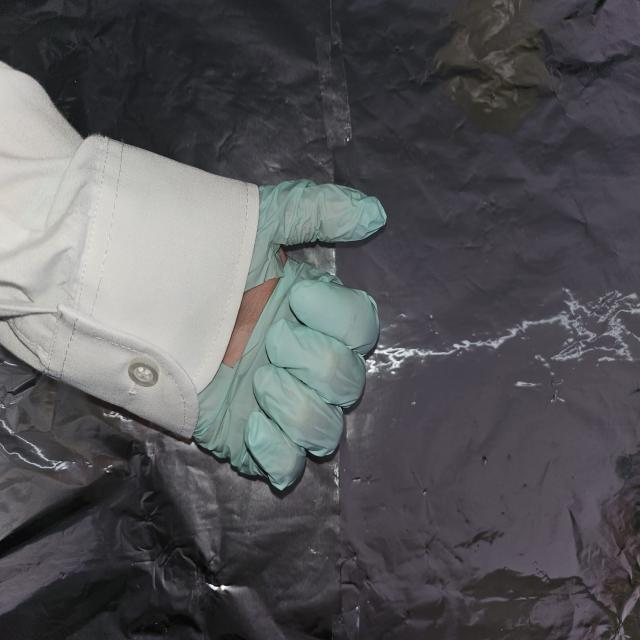gloves_damaged: (190, 178, 387, 490)
